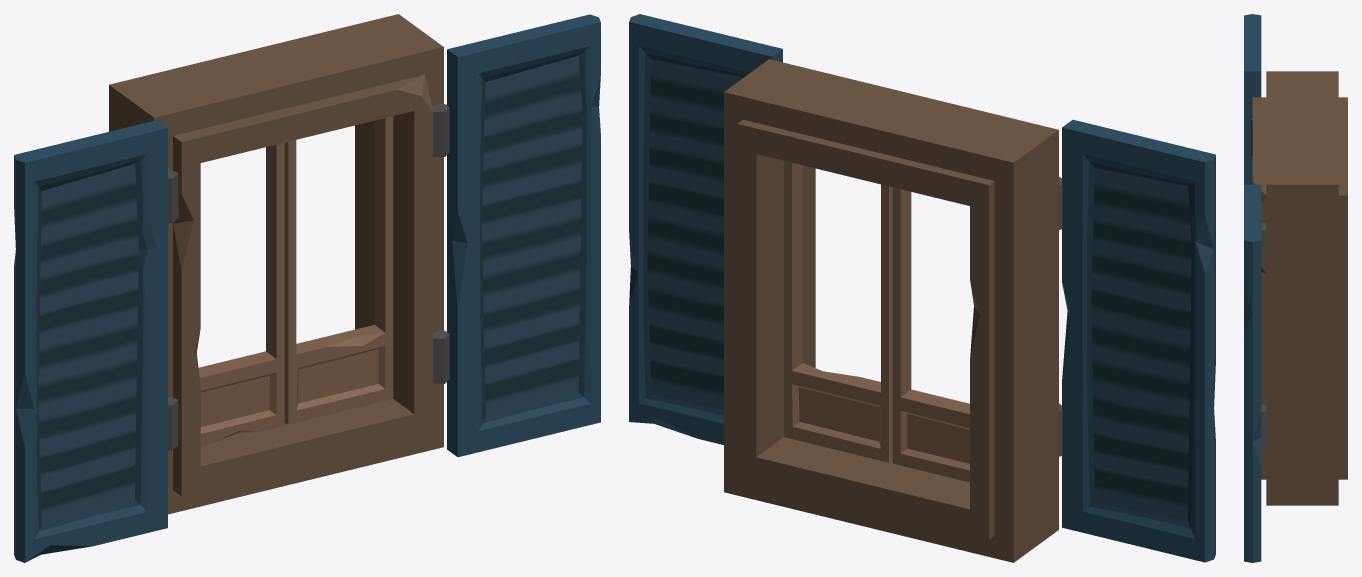
The model's file is SM_Bld_Village_Window_01.fbx.
3 renders of one model, left to right at view 1: azimuth 30°, elevation 25°; view 2: azimuth 150°, elevation 25°; view 3: azimuth 270°, elevation 25°, orthographic. The views are drawn at different scales.
Visible parts, largest first — view 1: SM_Bld_Village_Window_01, SM_Bld_Village_Window_Shutter_R_01, SM_Bld_Village_Window_Shutter_L_01, SM_Bld_Village_Window_Fold_L_01, SM_Bld_Village_Window_Fold_R_01; view 2: SM_Bld_Village_Window_01, SM_Bld_Village_Window_Shutter_R_01, SM_Bld_Village_Window_Shutter_L_01, SM_Bld_Village_Window_Fold_L_01, SM_Bld_Village_Window_Fold_R_01; view 3: SM_Bld_Village_Window_01, SM_Bld_Village_Window_Shutter_L_01, SM_Bld_Village_Window_Shutter_R_01.
Boxes of the visible parts, x1,y1,x2,y2 form: SM_Bld_Village_Window_01: [109, 14, 449, 514]; SM_Bld_Village_Window_Shutter_R_01: [14, 120, 167, 562]; SM_Bld_Village_Window_Shutter_L_01: [447, 14, 600, 457]; SM_Bld_Village_Window_Fold_L_01: [284, 116, 393, 424]; SM_Bld_Village_Window_Fold_R_01: [198, 142, 284, 445]; SM_Bld_Village_Window_01: [724, 59, 1062, 562]; SM_Bld_Village_Window_Shutter_R_01: [1062, 119, 1215, 562]; SM_Bld_Village_Window_Shutter_L_01: [629, 14, 782, 444]; SM_Bld_Village_Window_Fold_L_01: [784, 161, 892, 462]; SM_Bld_Village_Window_Fold_R_01: [892, 187, 969, 482]; SM_Bld_Village_Window_01: [1251, 71, 1347, 505]; SM_Bld_Village_Window_Shutter_L_01: [1244, 184, 1261, 562]; SM_Bld_Village_Window_Shutter_R_01: [1244, 14, 1261, 184].
Bounding box in the file's own units: 274 × 180 × 52.65.
